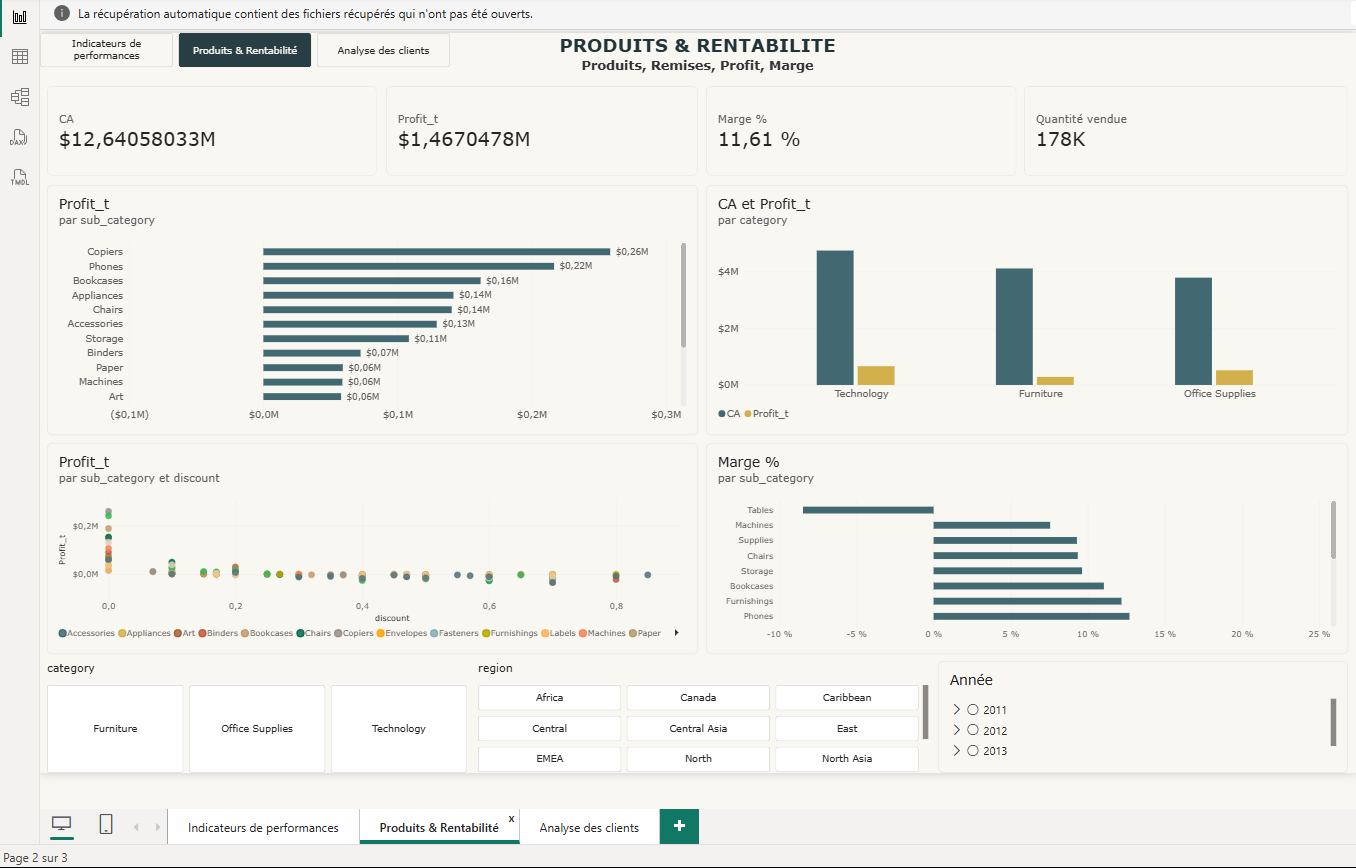

This screenshot's page, from the dashboard's own definition file:
{"tool":"powerbi","page":{"name":"Produits & Rentabilité","canvas":[1920,1080],"ordinal":1},"visuals":[{"type":"cardVisual","fields":{"Data":["public superstore_clean.CA"]},"box":[10.2,77.3,481.5,131.3],"z":0},{"type":"cardVisual","fields":{"Data":["public superstore_clean.Profit_t"]},"box":[504.8,77.3,455.2,131.3],"z":1000},{"type":"cardVisual","fields":{"Data":["public superstore_clean.Marge %"]},"box":[971.7,77.3,453.7,131.3],"z":2000},{"type":"cardVisual","fields":{"Data":["public superstore_clean.Quantité vendue"]},"box":[1435.6,77.3,472.7,131.3],"z":3000},{"type":"clusteredBarChart","fields":{"Category":["public superstore_clean.sub_category"],"Y":["public superstore_clean.Profit_t"]},"box":[10.2,221.8,949.8,364.7],"z":4000},{"type":"clusteredColumnChart","fields":{"Category":["public superstore_clean.category"],"Y":["public superstore_clean.CA","public superstore_clean.Profit_t"]},"box":[971.7,221.8,936.7,364.7],"z":5000},{"type":"scatterChart","fields":{"Series":["public superstore_clean.sub_category"],"X":["public superstore_clean.discount"],"Y":["public superstore_clean.Profit_t"]},"box":[10.2,598.2,949.8,307.8],"z":6000},{"type":"clusteredBarChart","fields":{"Category":["public superstore_clean.sub_category"],"Y":["public superstore_clean.Marge %"]},"box":[971.7,598.2,936.7,307.8],"z":7000},{"type":"advancedSlicerVisual","fields":{"Values":["public superstore_clean.category"]},"box":[10.2,916.2,614.2,163.4],"z":8000},{"type":"advancedSlicerVisual","fields":{"Values":["public superstore_clean.region"]},"box":[639,916.2,658,163.4],"z":9000},{"type":"listSlicer","fields":{"Values":["public superstore_clean.order_date.Variation.Hiérarchie de dates.Année","public superstore_clean.order_date.Variation.Hiérarchie de dates.Trimestre","public superstore_clean.order_date.Variation.Hiérarchie de dates.Mois","public superstore_clean.order_date.Variation.Hiérarchie de dates.Jour"]},"box":[1310.2,916.2,598.2,163.4],"z":10000},{"type":"textbox","title":"PRODUITS & RENTABILITE","box":[10.2,0,1898.1,62.7],"z":11000},{"type":"pageNavigator","box":[0,0,600,50],"z":11001}]}

Visuals, with their boxes on the page's 1920x1080 design canvas (x1, y1, x2, y2). These are canvas units, not pixel positions in the 1356x868 screenshot, which may show the page scaled, cropped or inside an application window:
cardVisual - public superstore_clean.CA: select_region(10, 77, 492, 209)
cardVisual - public superstore_clean.Profit_t: select_region(505, 77, 960, 209)
cardVisual - public superstore_clean.Marge %: select_region(972, 77, 1425, 209)
cardVisual - public superstore_clean.Quantité vendue: select_region(1436, 77, 1908, 209)
clusteredBarChart - public superstore_clean.sub_category x public superstore_clean.Profit_t: select_region(10, 222, 960, 586)
clusteredColumnChart - public superstore_clean.category x public superstore_clean.CA: select_region(972, 222, 1908, 586)
scatterChart - public superstore_clean.sub_category x public superstore_clean.discount: select_region(10, 598, 960, 906)
clusteredBarChart - public superstore_clean.sub_category x public superstore_clean.Marge %: select_region(972, 598, 1908, 906)
advancedSlicerVisual - public superstore_clean.category: select_region(10, 916, 624, 1080)
advancedSlicerVisual - public superstore_clean.region: select_region(639, 916, 1297, 1080)
listSlicer - public superstore_clean.order_date.Variation.Hiérarchie de dates.Année x public superstore_clean.order_date.Variation.Hiérarchie de dates.Trimestre: select_region(1310, 916, 1908, 1080)
"PRODUITS & RENTABILITE" textbox: select_region(10, 0, 1908, 63)
pageNavigator: select_region(0, 0, 600, 50)
